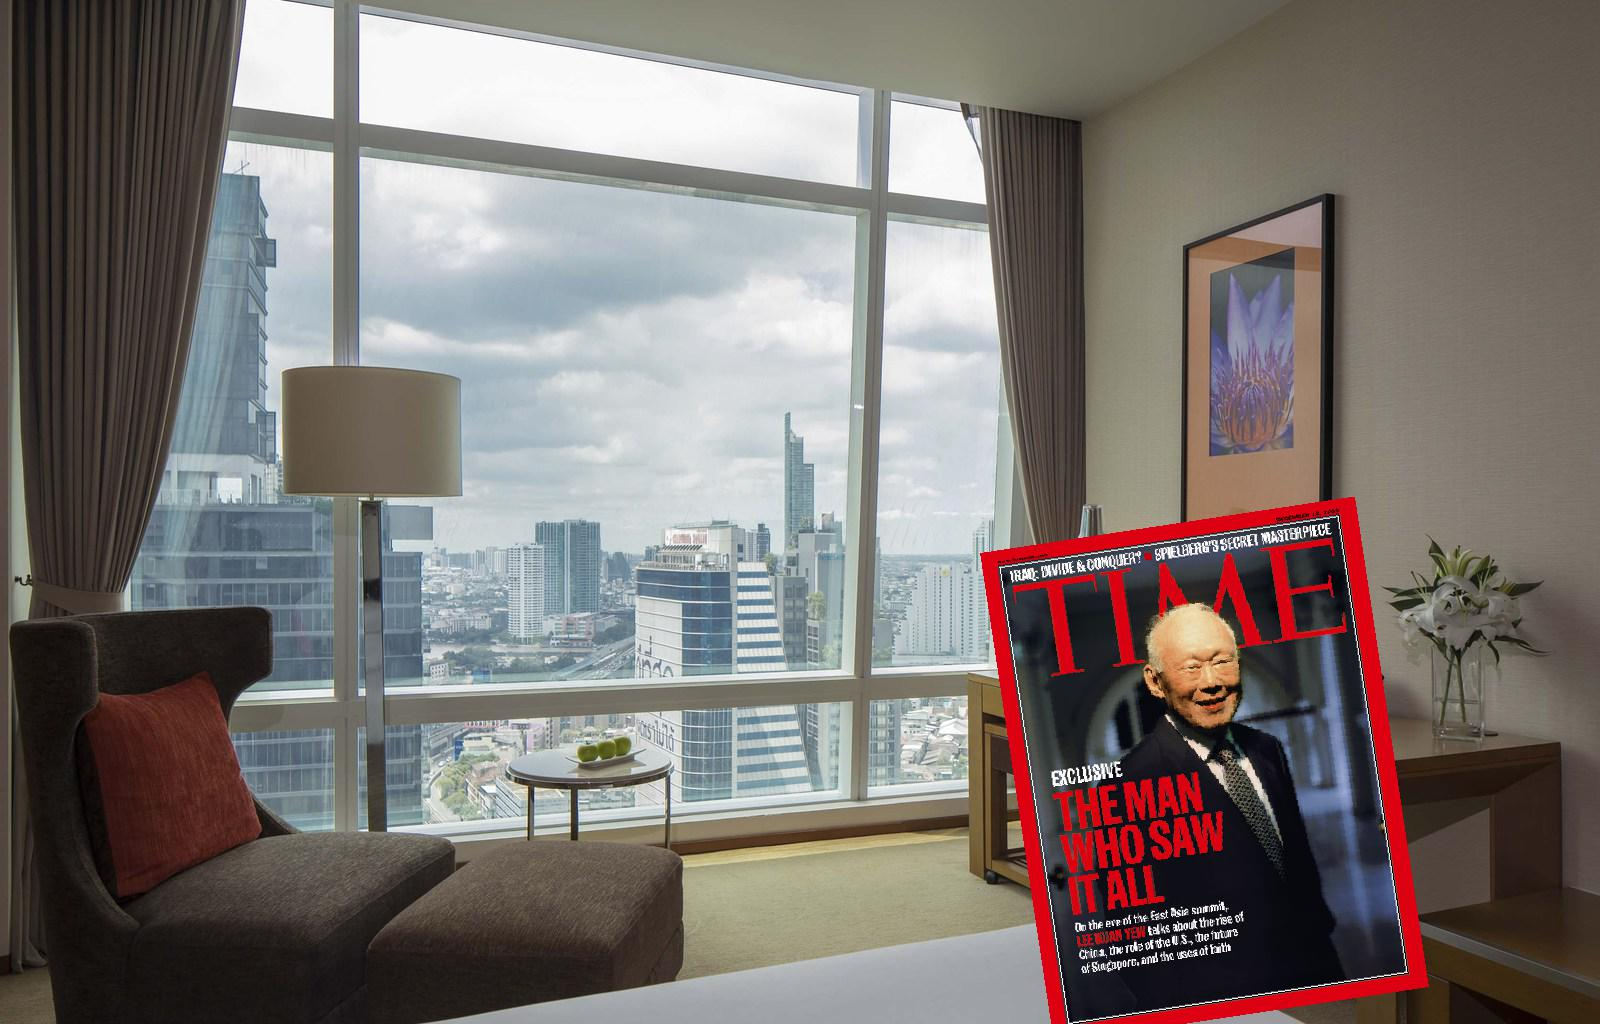times: (976, 493, 1433, 1024)
